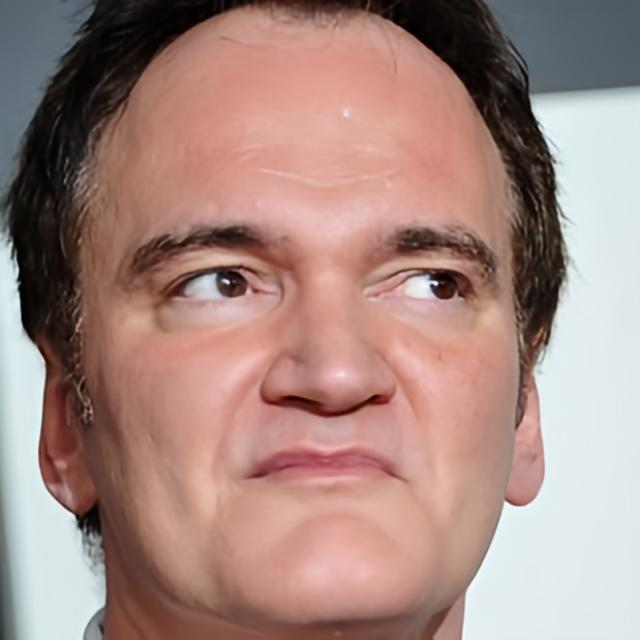disgust: (80, 1, 522, 624)
